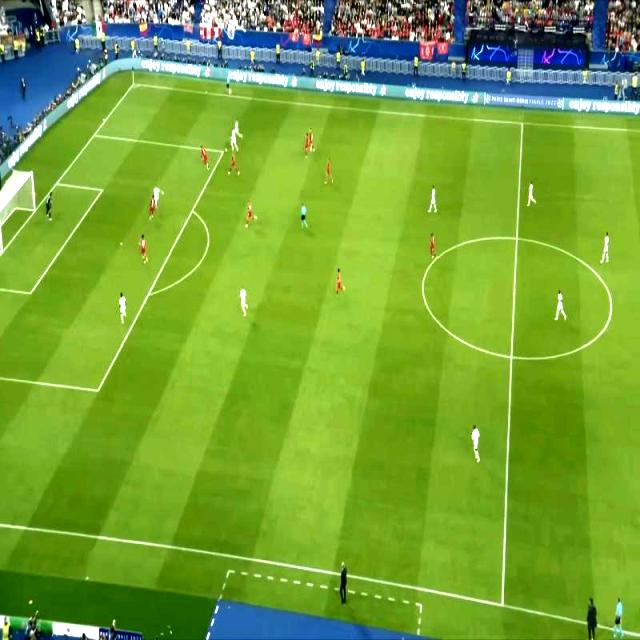bigarea_bottom_inner: (92, 382, 105, 397)
bigarea_top_inner: (219, 144, 227, 160)
bigarea_top_outter: (91, 127, 99, 142)
bottom_arc_area_intersection: (143, 286, 155, 303)
corner: (128, 78, 140, 90)
halfcircle_bottom: (505, 349, 519, 363)
halfcircle_top: (510, 232, 524, 246)
midline_bottom_intersection: (496, 597, 509, 612)
midline_top_intersection: (516, 119, 529, 131)
smallarea_bottom_inner: (24, 286, 38, 300)
smallarea_top_inner: (97, 184, 108, 196)
smallarea_top_outter: (52, 177, 62, 191)
top_arc_area_intersection: (186, 205, 200, 218)
